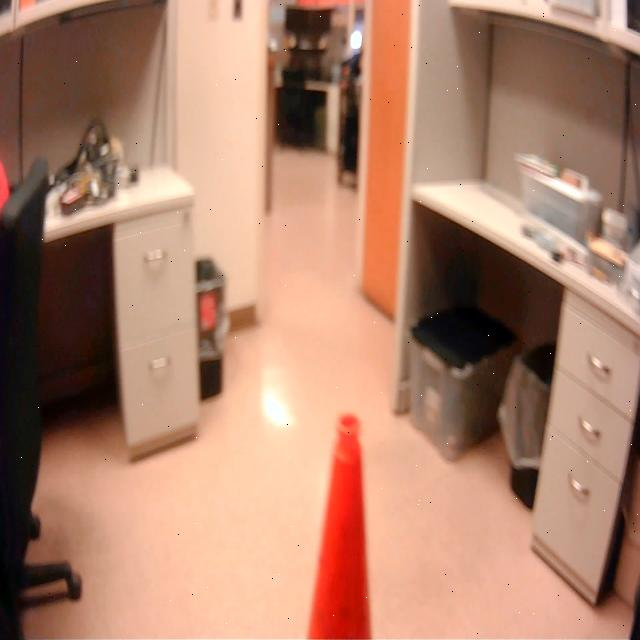traffic cone: (299, 407, 380, 640)
